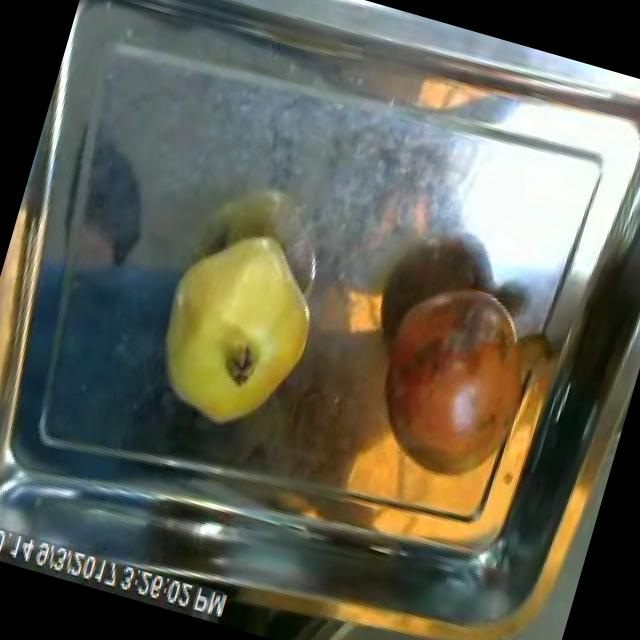fruit: (128, 204, 342, 458), (346, 256, 554, 502)
